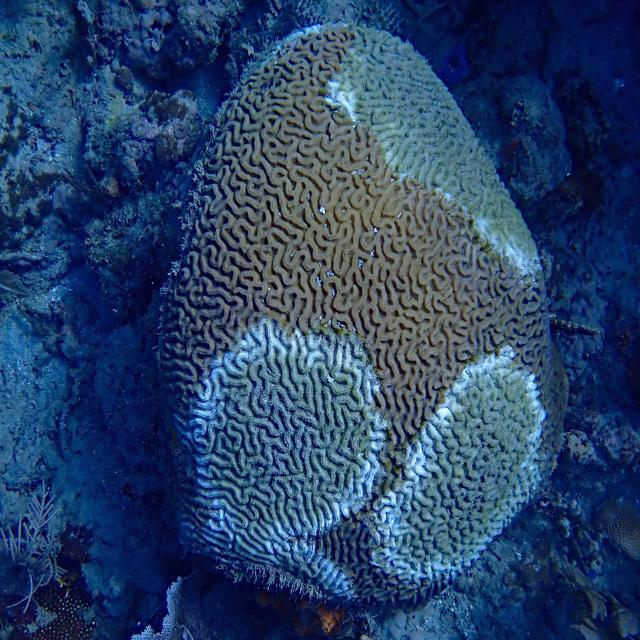Coral: (158, 22, 569, 607)
